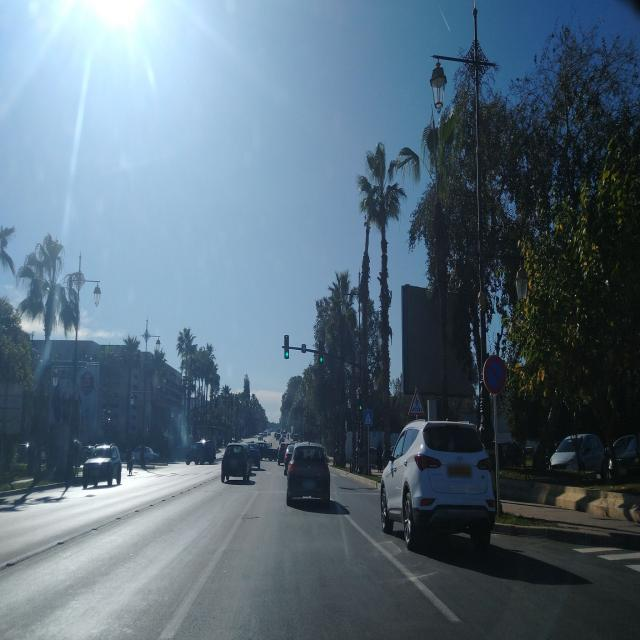forb_stopping: (484, 354, 507, 396)
